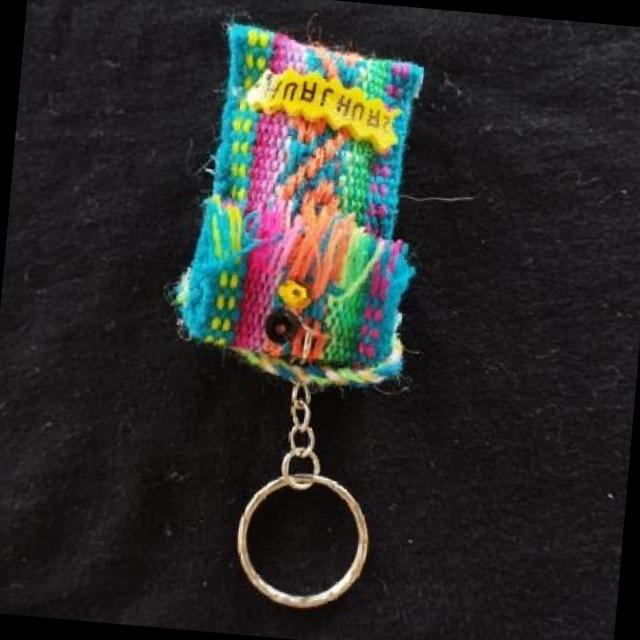Llavero: (162, 15, 436, 398)
